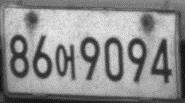0: (103, 35, 124, 82)
4: (149, 37, 172, 84)
6: (31, 34, 53, 80)
8: (8, 33, 29, 78)
9: (126, 37, 148, 83), (79, 35, 101, 80)
어: (54, 43, 77, 81)
